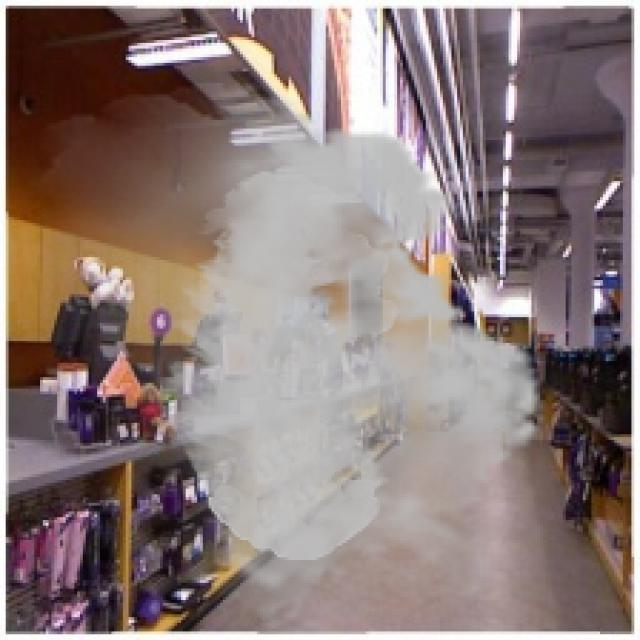Smoke: (11, 82, 563, 634)
